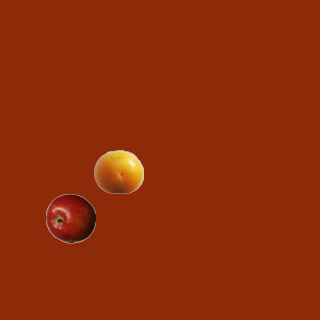Apple Braeburn: (45, 193, 95, 243)
Cherry Wax Yellow: (93, 146, 143, 196)
